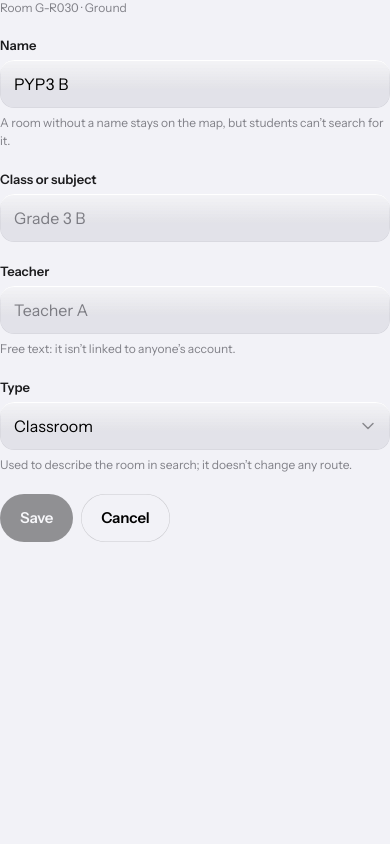
it: RoomEditor › refuses a name another room has, and asks before leaving a room unnamed
Type "art" into the field labelled "Name" at (195, 84), box [0,60,389,108]
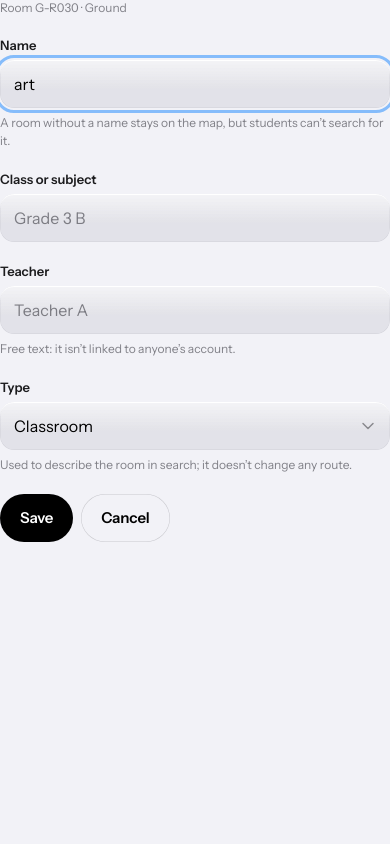
Click the button "Save" at (37, 518), box [0,494,73,542]
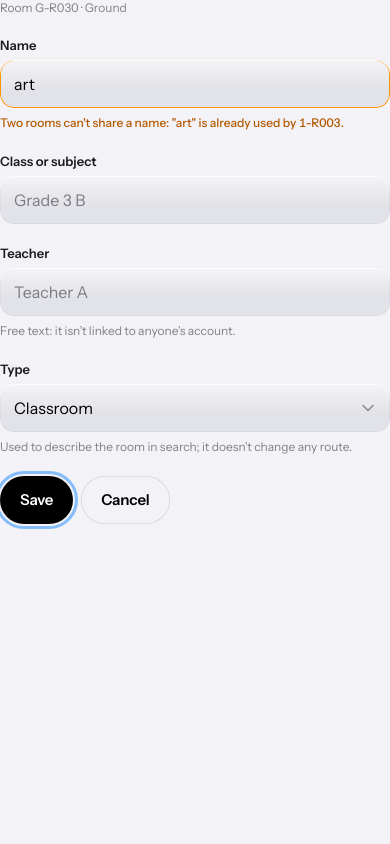
Expected: the text "Two rooms can't share a name: \"art\" is already used by 1-R003." is shown, [0,114,389,132]
Clear the field labelled "Name" at (195, 84), box [0,60,389,108]
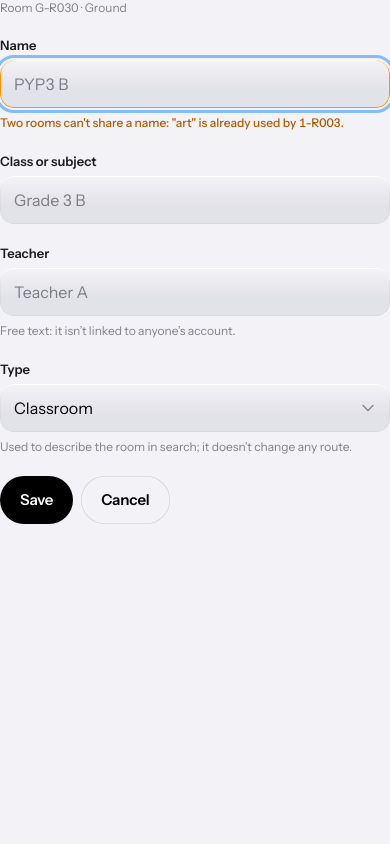
Click the button "Save" at (37, 500), box [0,476,73,524]
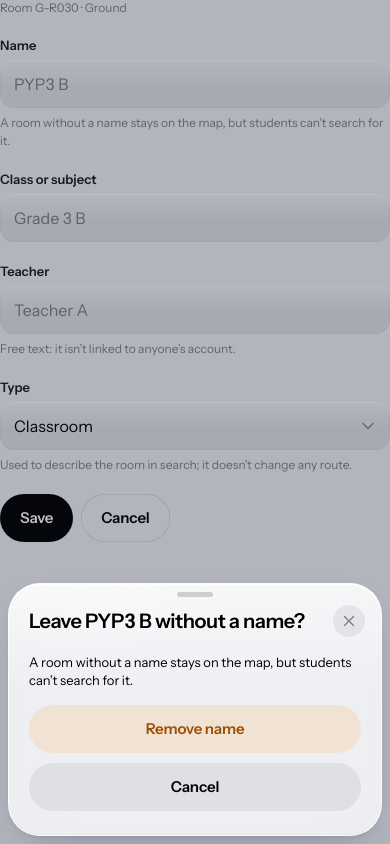
Expected: the dialog shows "Leave PYP3 B without a name?", [29,608,305,632]
